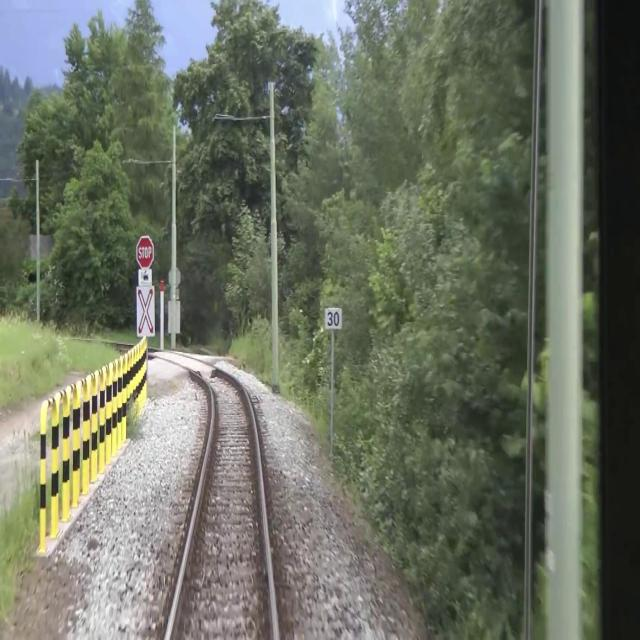rail-track: (164, 355, 274, 639)
